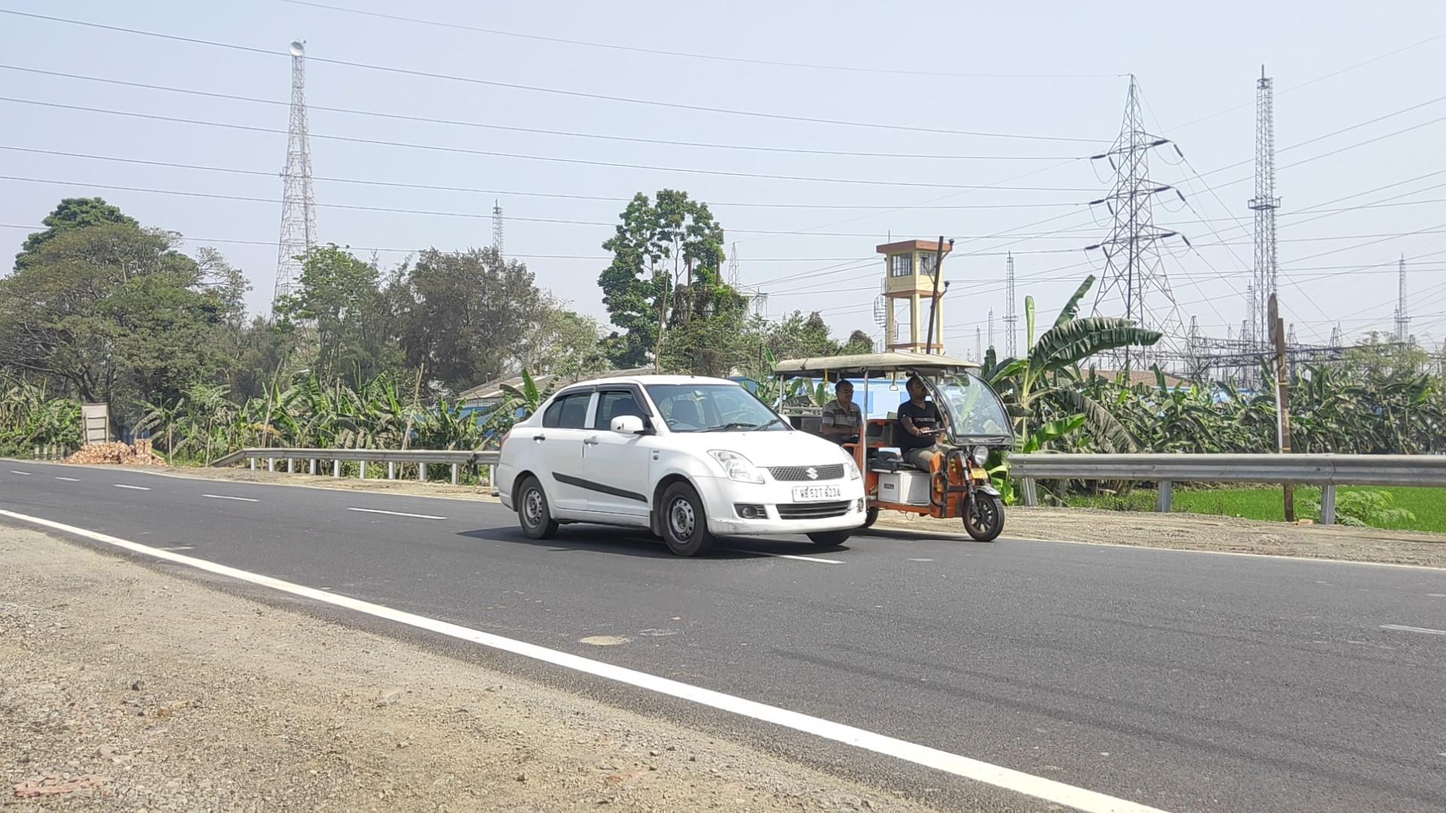Auto: (775, 353, 1016, 543)
car: (491, 373, 867, 558)
